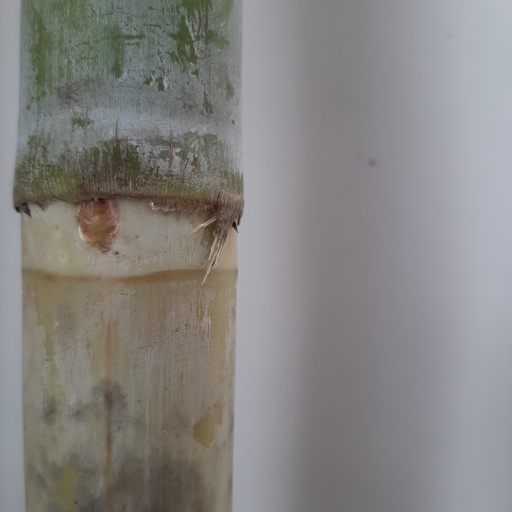Damage_Bud: (79, 198, 120, 252)
